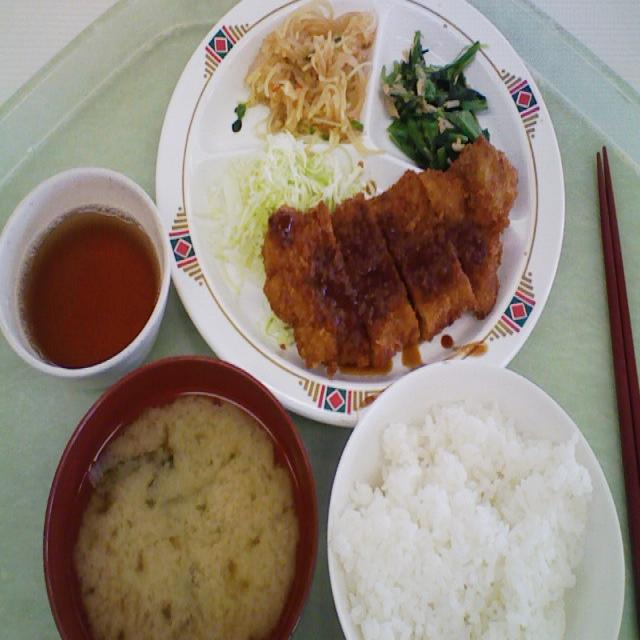Rice: (348, 380, 592, 640)
